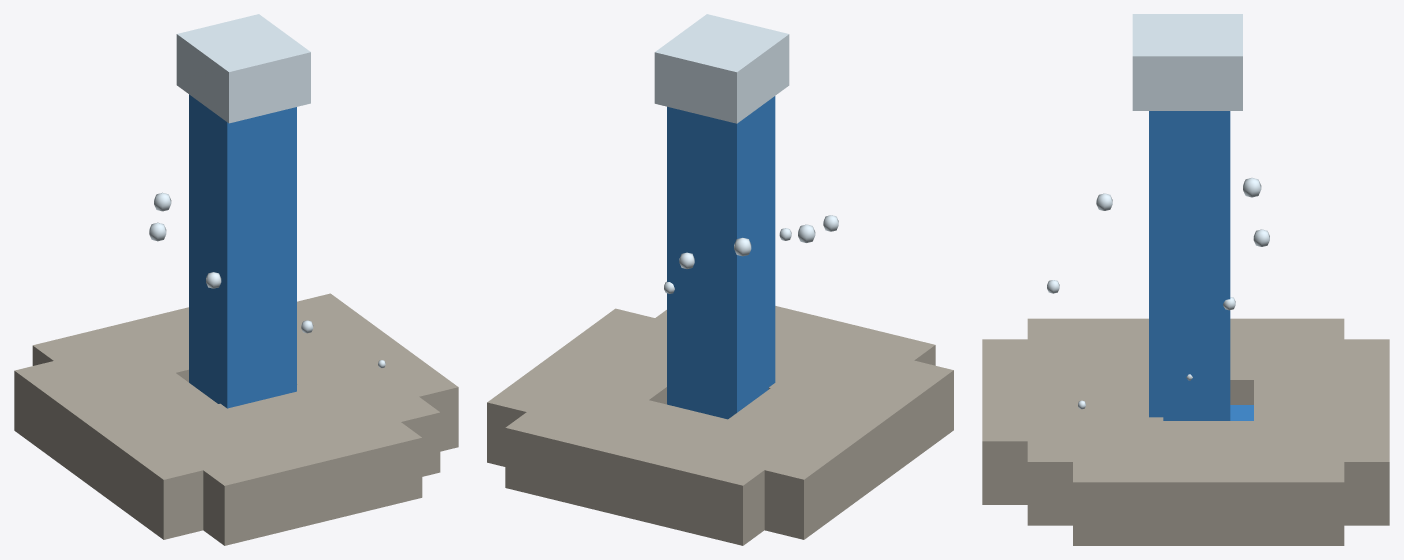
The model's file is geyser-pixor-blocky.glb.
3 renders of one model, left to right at view 1: azimuth 30°, elevation 25°; view 2: azimuth 150°, elevation 25°; view 3: azimuth 270°, elevation 25°, orthographic. The views are drawn at different scales.
Parts seen in each view (by area): view 1: Geyser mound, Geyser spout, Spout foam, Geyser drops; view 2: Geyser mound, Geyser spout, Spout foam, Geyser drops; view 3: Geyser mound, Geyser spout, Spout foam, Geyser drops.
Part boxes in pixels (x1=…): Geyser mound: x1=14, y1=293, x2=458, y2=545; Geyser spout: x1=189, y1=94, x2=296, y2=408; Spout foam: x1=176, y1=14, x2=310, y2=123; Geyser drops: x1=149, y1=192, x2=385, y2=367; Geyser mound: x1=487, y1=306, x2=953, y2=545; Geyser spout: x1=667, y1=96, x2=775, y2=419; Spout foam: x1=654, y1=14, x2=789, y2=123; Geyser drops: x1=664, y1=215, x2=838, y2=293; Geyser mound: x1=982, y1=318, x2=1389, y2=545; Geyser spout: x1=1149, y1=111, x2=1230, y2=420; Spout foam: x1=1132, y1=14, x2=1242, y2=110; Geyser drops: x1=1047, y1=178, x2=1269, y2=409.
Size of the model in its own units: 1.81 by 2.21 by 1.9.
